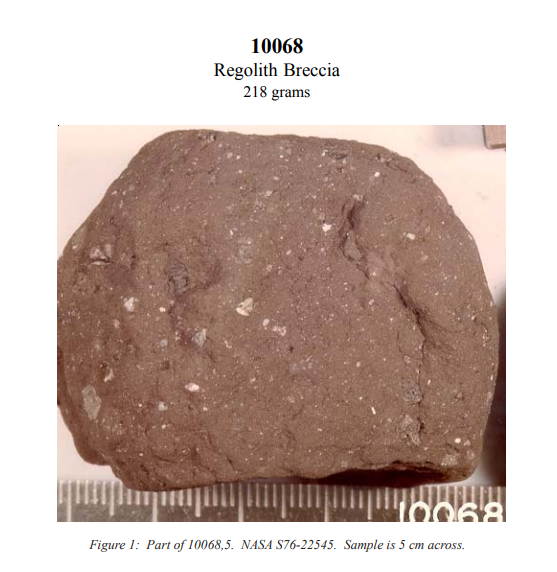Breccia: (58, 121, 503, 482)
